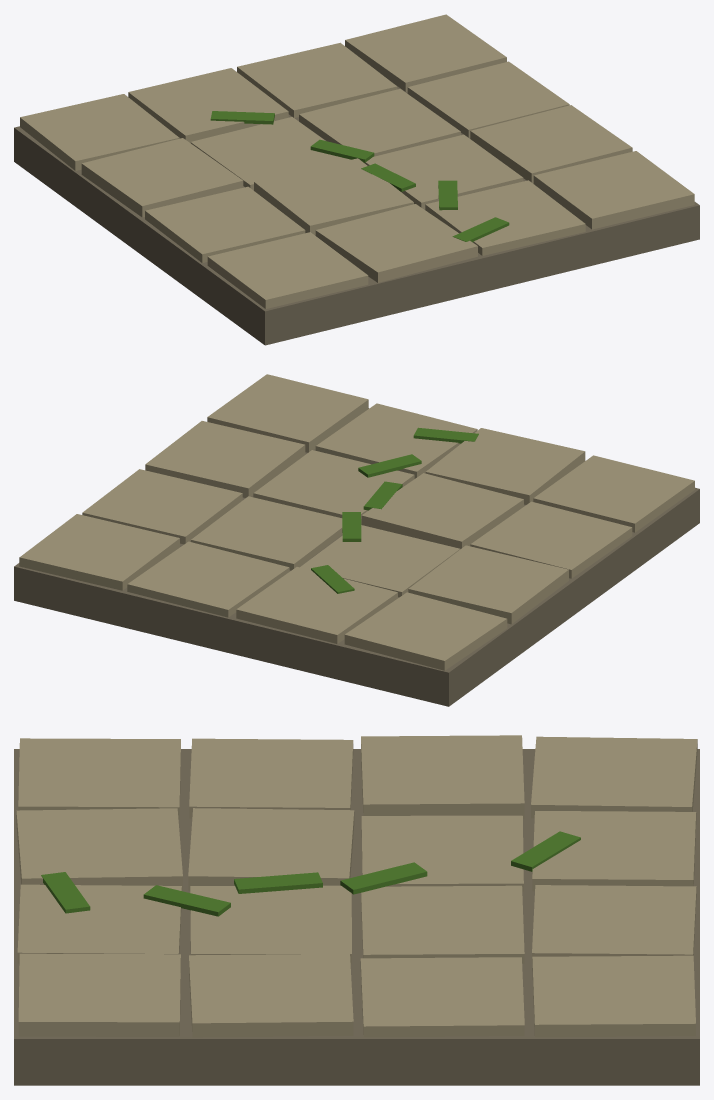
File: temple_floor.glb
3 views of the same model, one above another, from view 1: azimuth 30°, elevation 25°; view 2: azimuth 150°, elevation 25°; view 3: azimuth 270°, elevation 25° (orthographic). The views are drawn at different scales.
Visible parts, largest first — view 1: stone_temple-col, stone_temple_dark-col, moss; view 2: stone_temple-col, stone_temple_dark-col, moss; view 3: stone_temple-col, stone_temple_dark-col, moss.
Boxes of the visible parts, x1,y1,x2,y2 form: stone_temple-col: (20,14,694,308); stone_temple_dark-col: (14,84,699,345); moss: (210,111,509,242); stone_temple-col: (19,374,694,670); stone_temple_dark-col: (14,408,699,706); moss: (311,427,478,593); stone_temple-col: (16,735,697,1037); stone_temple_dark-col: (14,749,699,1085); moss: (41,831,580,916).
Size of the model in its own units: 4 by 0.399 by 4.
